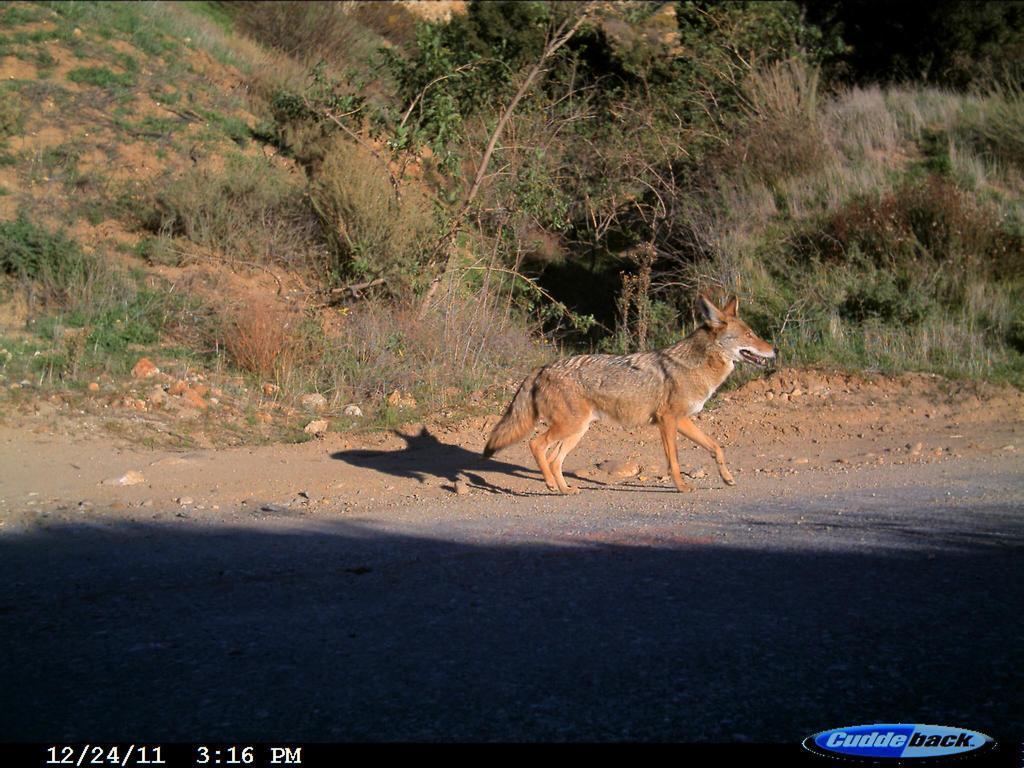coyote: (481, 290, 797, 510)
